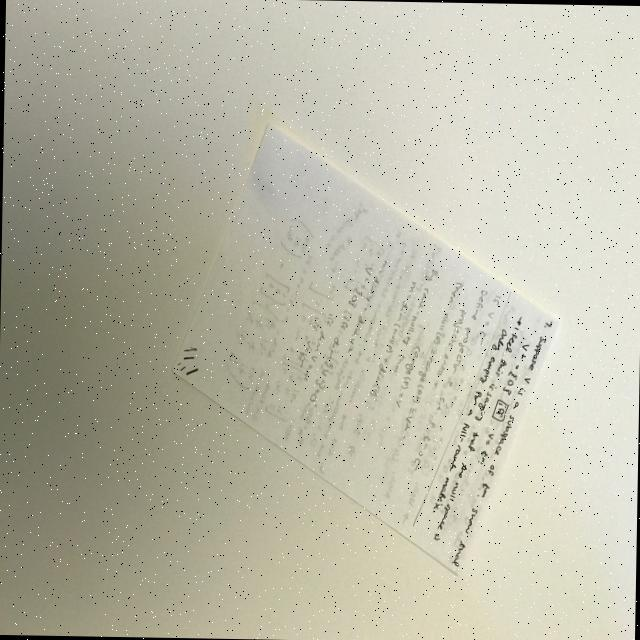paper: (167, 113, 564, 577)
